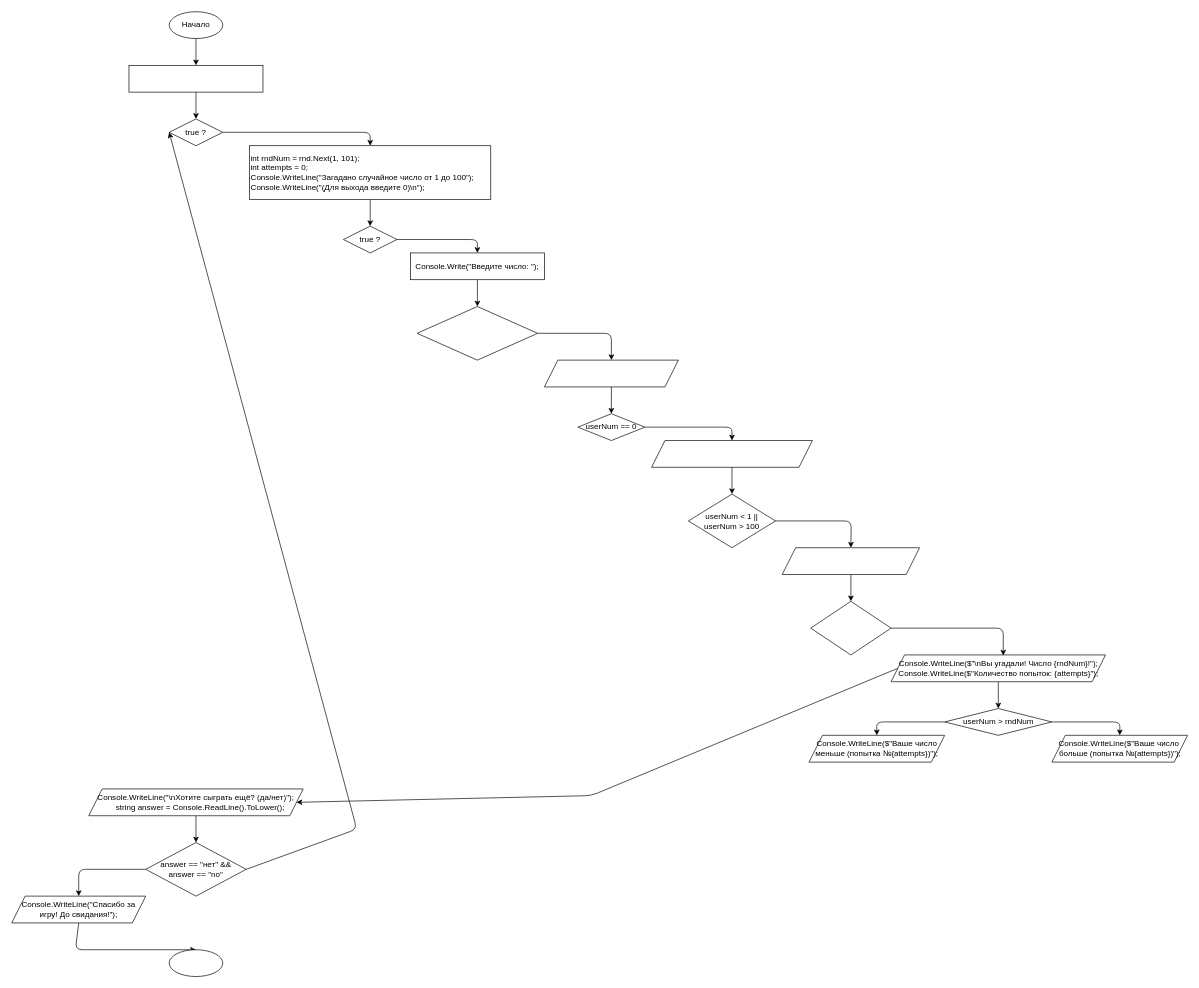
The diagram is 1199 pixels wide and 988 high, and some of its shapes have lost their labels. Each missing label, with the centre of its shape:
!int.TryParse( Console.ReadLine(), out int userNum): point 477,333
Console.WriteLine("Ошибка! Введите целое число.\n");: point 611,373
Console.WriteLine("Число должно быть от 1 до 100!\n");: point 851,561
Console.WriteLine($"\nВыход из игры. Загаданное число было: {rndNum}");: point 731,453
Random rnd = new Random();: point 195,78
userNum == rndNum: point 850,628
Конец: point 196,963
